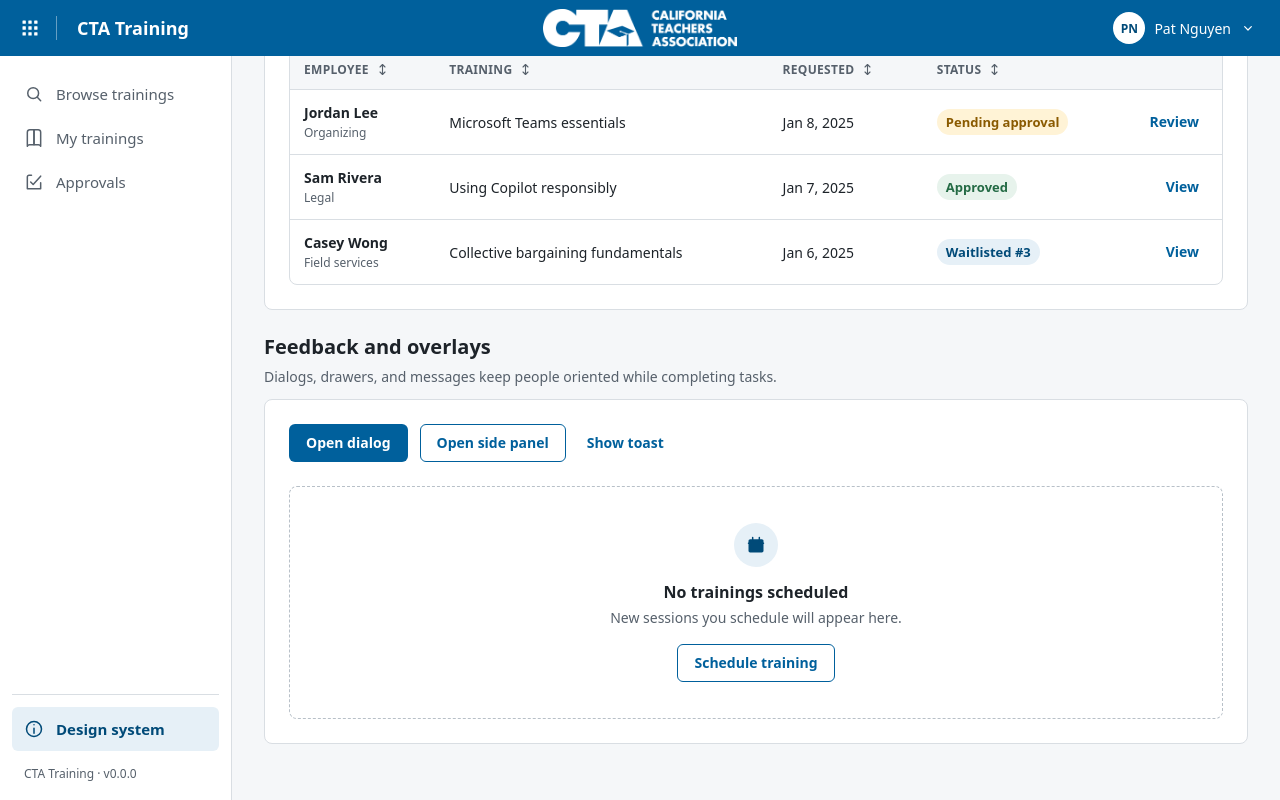
Scenario: Design system page › opens the side panel
(page scrolled)
Click the button "Open side panel": {"x": 493, "y": 443} 420,424 -> 566,462
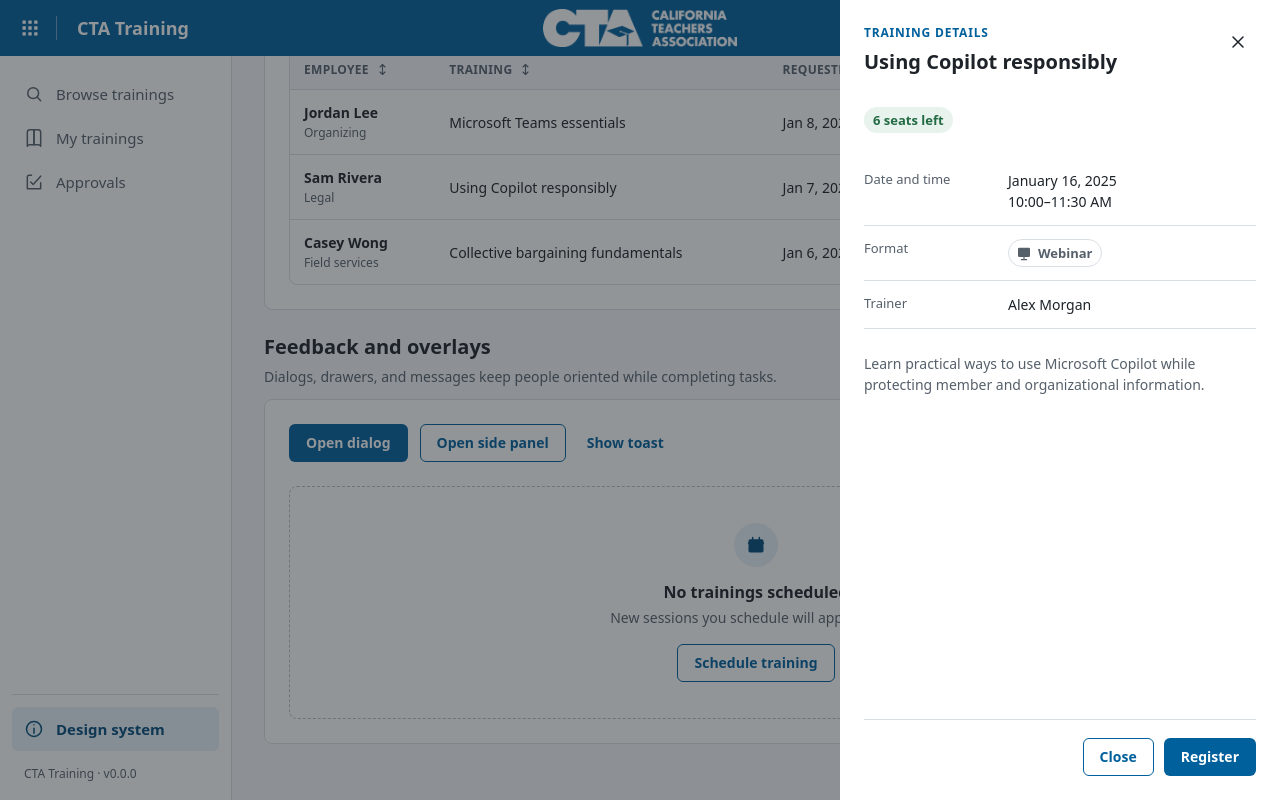
Expected: the dialog "Using Copilot responsibly" is shown, 840,0 -> 1279,799
